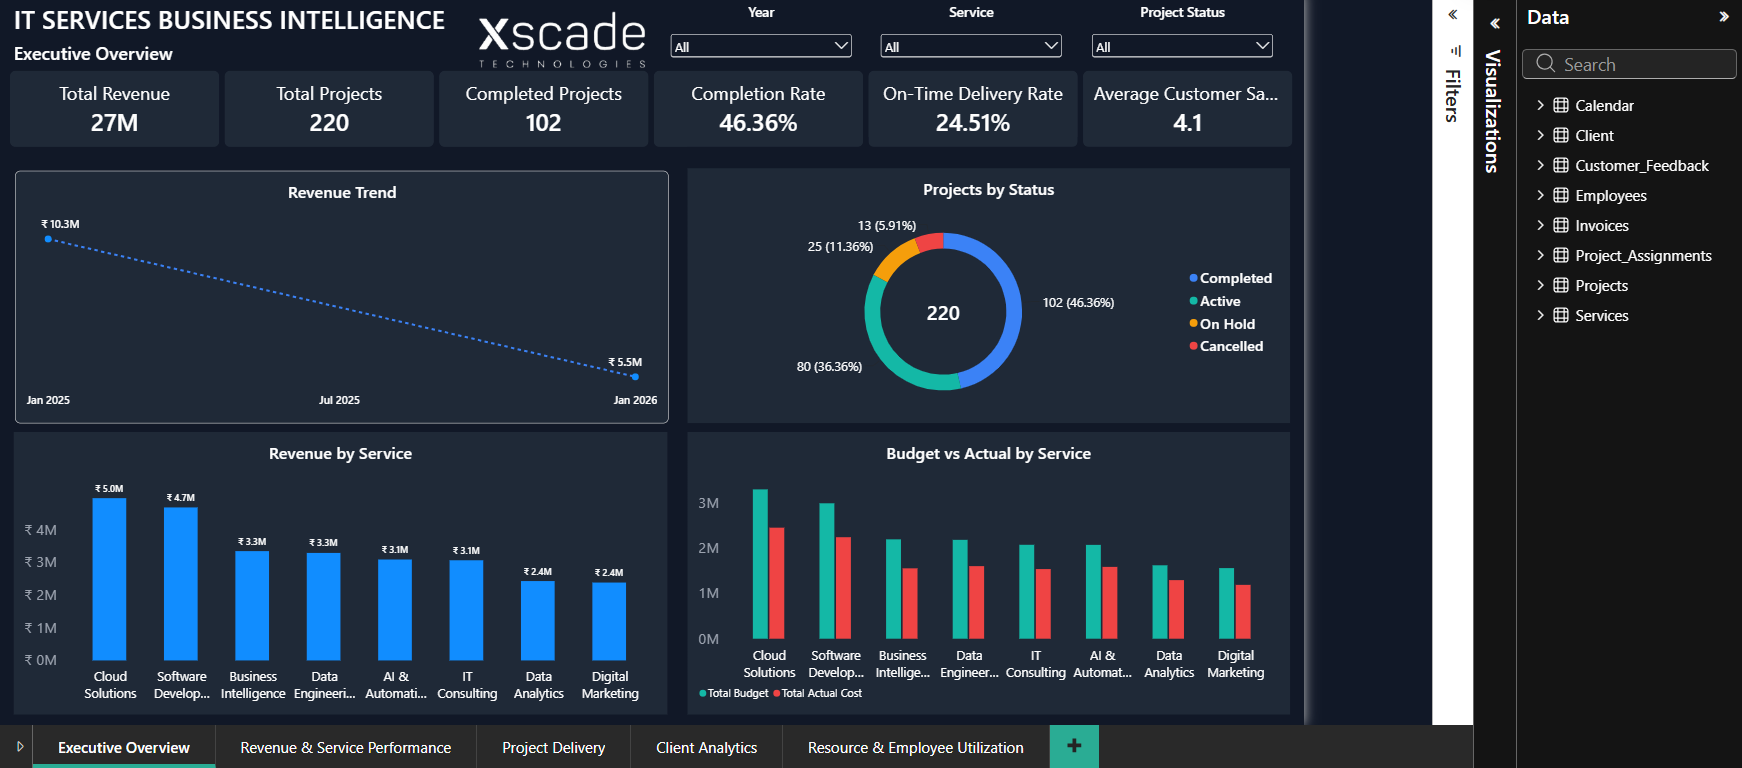

What the dashboard file says about the page in this screenshot:
{"tool":"powerbi","page":{"name":"Executive Overview","canvas":[1920,1080],"ordinal":0},"visuals":[{"type":"textbox","box":[20.2,14.7,679.1,57.1],"z":0},{"type":"textbox","box":[20.2,71.8,263.2,44.2],"z":1000},{"type":"cardVisual","fields":{"Data":["Services.Total Revenue","Services.Total Projects","Services.Completed Projects","Services.Completion Rate","Services.On-Time Delivery Rate","Services.Average Customer Satisfaction"]},"box":[14.7,116,1892.4,112.3],"z":2000},{"type":"lineChart","title":"Revenue Trend","fields":{"Category":["Calendar.Date.Variation.Date Hierarchy.Year","Calendar.Date.Variation.Date Hierarchy.Quarter","Calendar.Date.Variation.Date Hierarchy.Month","Calendar.Date.Variation.Date Hierarchy.Day"],"Y":["Services.Total Revenue"]},"box":[22.1,263.2,962.6,371.8],"z":3000},{"type":"donutChart","title":"Projects by Status","fields":{"Category":["Projects.Status"],"Y":["Services.Total Projects"]},"box":[1012.3,259.5,887.1,375.5],"z":4000},{"type":"clusteredColumnChart","title":"Revenue by Service","fields":{"Category":["Services.ServiceName"],"Y":["Services.Total Revenue"]},"box":[20.2,647.9,962.6,416],"z":5000},{"type":"clusteredColumnChart","title":"Budget vs Actual by Service  ","fields":{"Category":["Services.ServiceName"],"Y":["Services.Total Budget","Services.Total Actual Cost"]},"box":[1012.3,647.9,887.1,416],"z":6000},{"type":"slicer","title":"Year","fields":{"Values":["Calendar.Year"]},"box":[982.8,14.7,276.1,101.2],"z":7000},{"type":"slicer","title":"Service","fields":{"Values":["Services.ServiceName"]},"box":[1292,14.7,276.1,101.2],"z":8000},{"type":"slicer","title":"Project Status","fields":{"Values":["Projects.Status"]},"box":[1603.1,14.7,276.1,101.2],"z":9000},{"type":"image","box":[605.5,0,456.4,116],"z":9001}]}

Visuals, with their boxes on the page's 1920x1080 design canvas (x1, y1, x2, y2). These are canvas units, not pixel positions in the 1742x768 screenshot, which may show the page scaled, cropped or inside an application window:
textbox: bbox=(20, 15, 699, 72)
textbox: bbox=(20, 72, 283, 116)
cardVisual - Services.Total Revenue x Services.Total Projects: bbox=(15, 116, 1907, 228)
"Revenue Trend" lineChart: bbox=(22, 263, 985, 635)
"Projects by Status" donutChart: bbox=(1012, 260, 1899, 635)
"Revenue by Service" clusteredColumnChart: bbox=(20, 648, 983, 1064)
"Budget vs Actual by Service  " clusteredColumnChart: bbox=(1012, 648, 1899, 1064)
"Year" slicer: bbox=(983, 15, 1259, 116)
"Service" slicer: bbox=(1292, 15, 1568, 116)
"Project Status" slicer: bbox=(1603, 15, 1879, 116)
image: bbox=(606, 0, 1062, 116)
